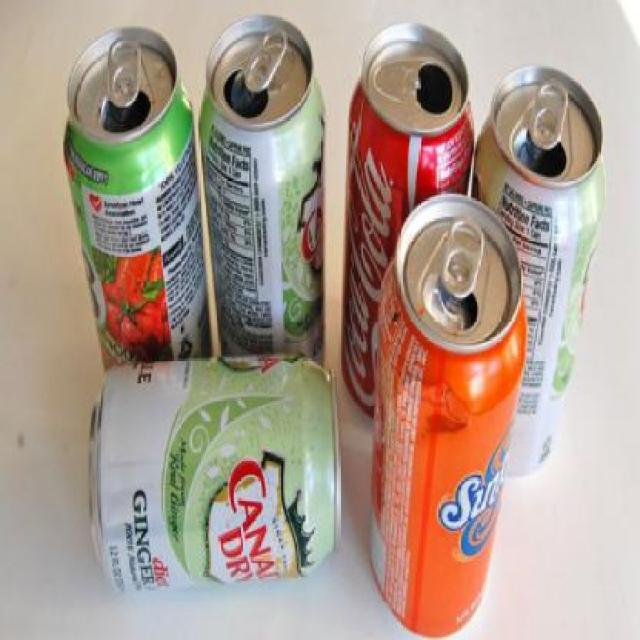non-organic waste: (363, 186, 530, 640), (86, 348, 346, 602), (472, 56, 611, 526), (57, 24, 216, 406), (342, 28, 483, 443), (200, 11, 329, 358)
